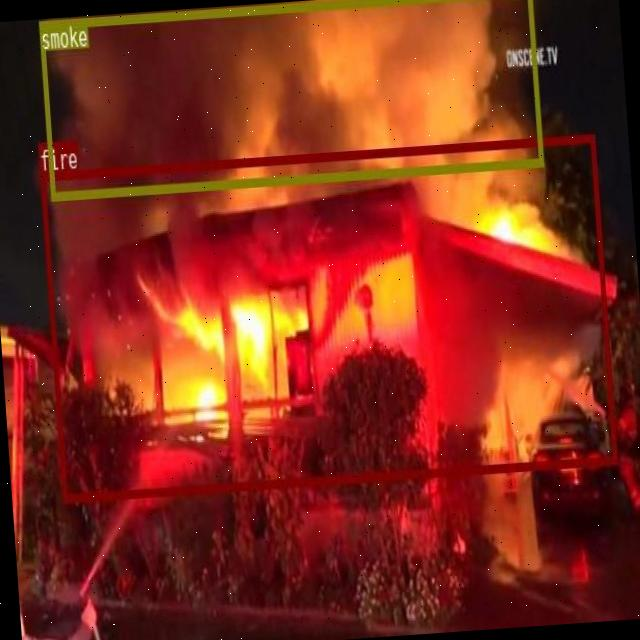fire: (39, 132, 616, 500)
smoke: (37, 0, 542, 199)
